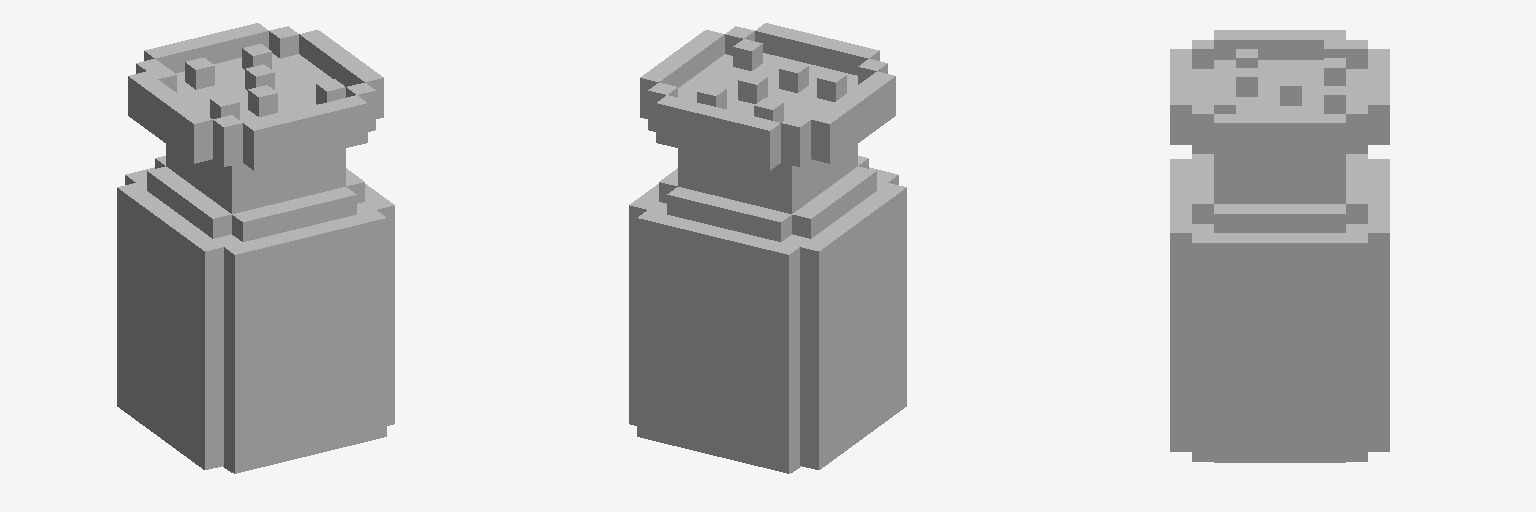
The model's file is Jar 01.obj.
3 views of the same model, side by side, from view 1: azimuth 30°, elevation 25°; view 2: azimuth 150°, elevation 25°; view 3: azimuth 270°, elevation 25° (orthographic).
Visible parts, largest first — view 1: object 1; view 2: object 1; view 3: object 1.
Part boxes in pixels (x1,y1,x2,y2): object 1: (117,23,394,473); object 1: (629,23,906,473); object 1: (1170,30,1389,462).
Bounding box in the file's own units: 1 × 1.8 × 1.